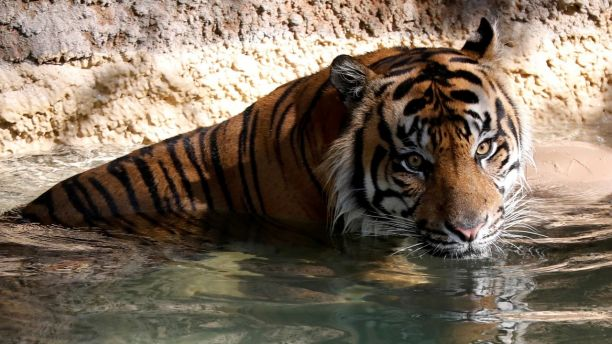Tiger: (21, 25, 557, 274)
